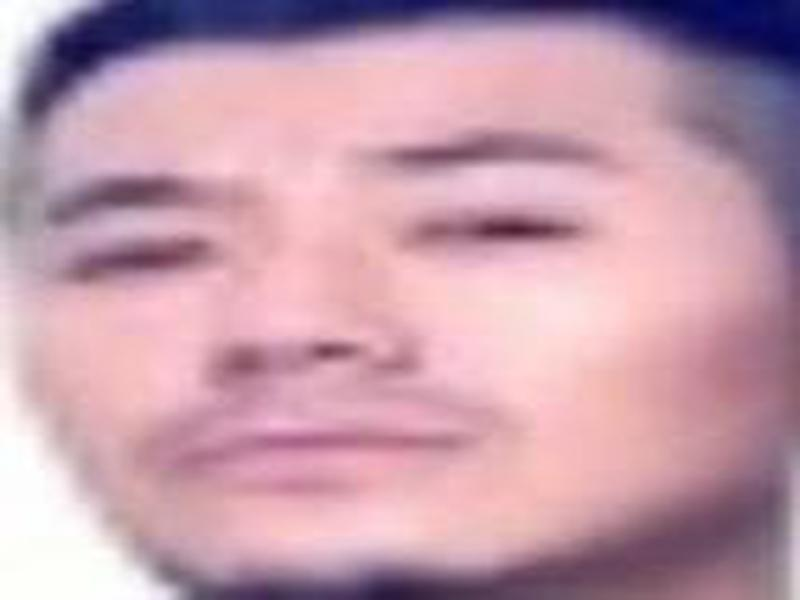without_mask: (23, 40, 753, 600)
